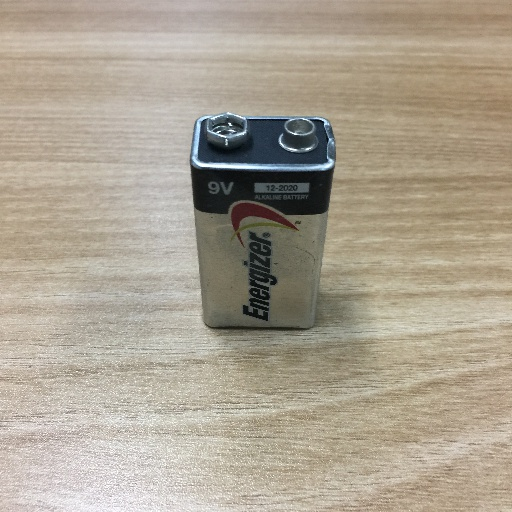Battery_3: (179, 97, 349, 353)
